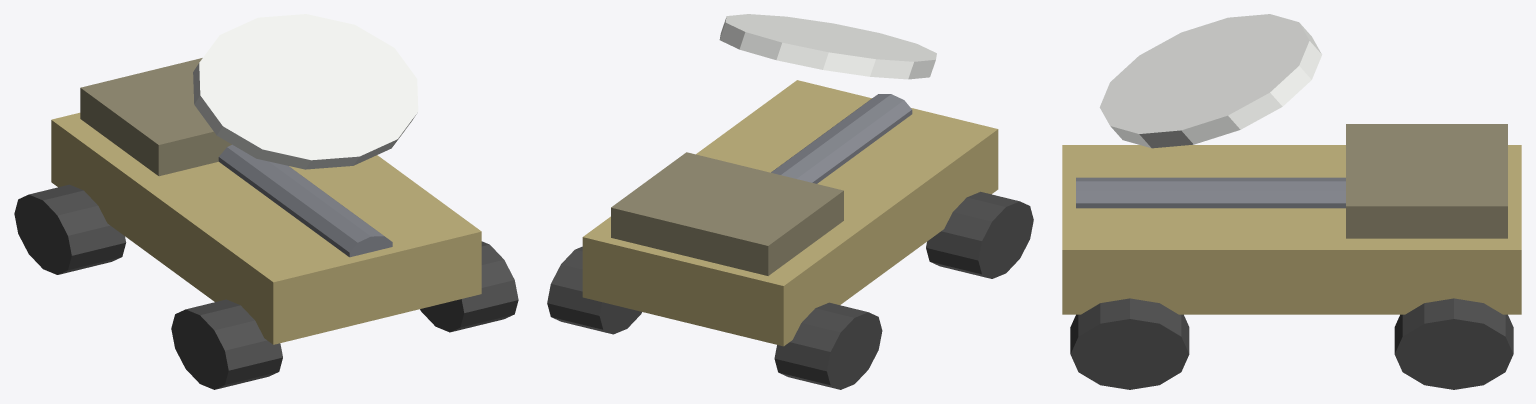
Rendered from dm_sensor.glb.
3 renders of one model, left to right at view 1: azimuth 30°, elevation 25°; view 2: azimuth 150°, elevation 25°; view 3: azimuth 270°, elevation 25°, orthographic. The views are drawn at different scales.
Visible parts, largest first — view 1: hull; view 2: hull; view 3: hull.
Part boxes in pixels (left/top/right/bottom): hull: left=14, top=14, right=518, bottom=389; hull: left=547, top=14, right=1033, bottom=389; hull: left=1062, top=14, right=1521, bottom=389.
Size of the model in its own units: 0.64 by 0.5641 by 0.85.
